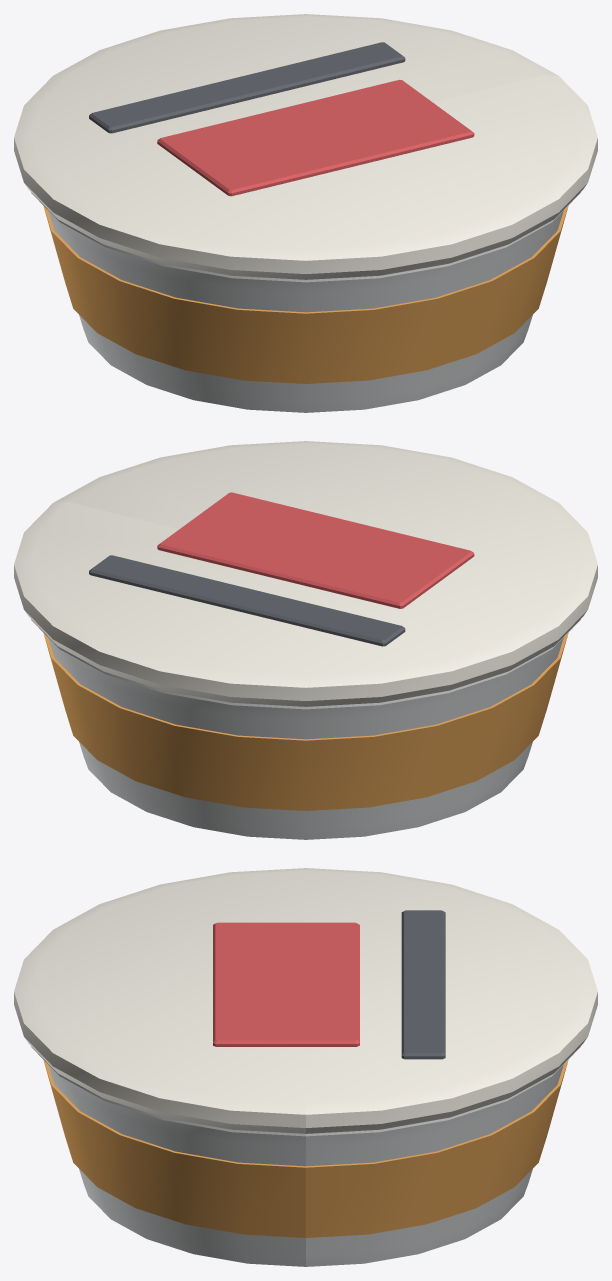
Rendered from fresh-produce-and-groceries-hummus-tub-73cfb734__24410.glb.
The picture shows the model from 3 angles, top to bottom: view 1: azimuth 30°, elevation 25°; view 2: azimuth 150°, elevation 25°; view 3: azimuth 270°, elevation 25°; orthographic projection.
Parts seen in each view (by area): view 1: hummus-tub; view 2: hummus-tub; view 3: hummus-tub.
Part boxes in pixels (x1,y1,x2,y2): hummus-tub: (14,14,597,412); hummus-tub: (14,441,597,839); hummus-tub: (14,868,597,1266).
Size of the model in its own units: 0.1192 by 0.0428 by 0.1192.
